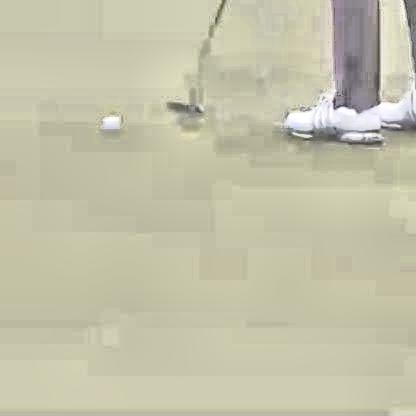golfball: (98, 113, 118, 131)
